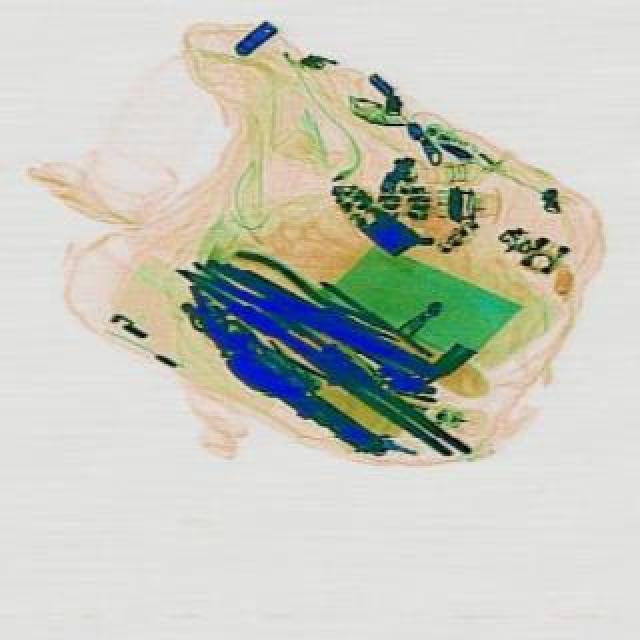wrench: (210, 248, 406, 364)
